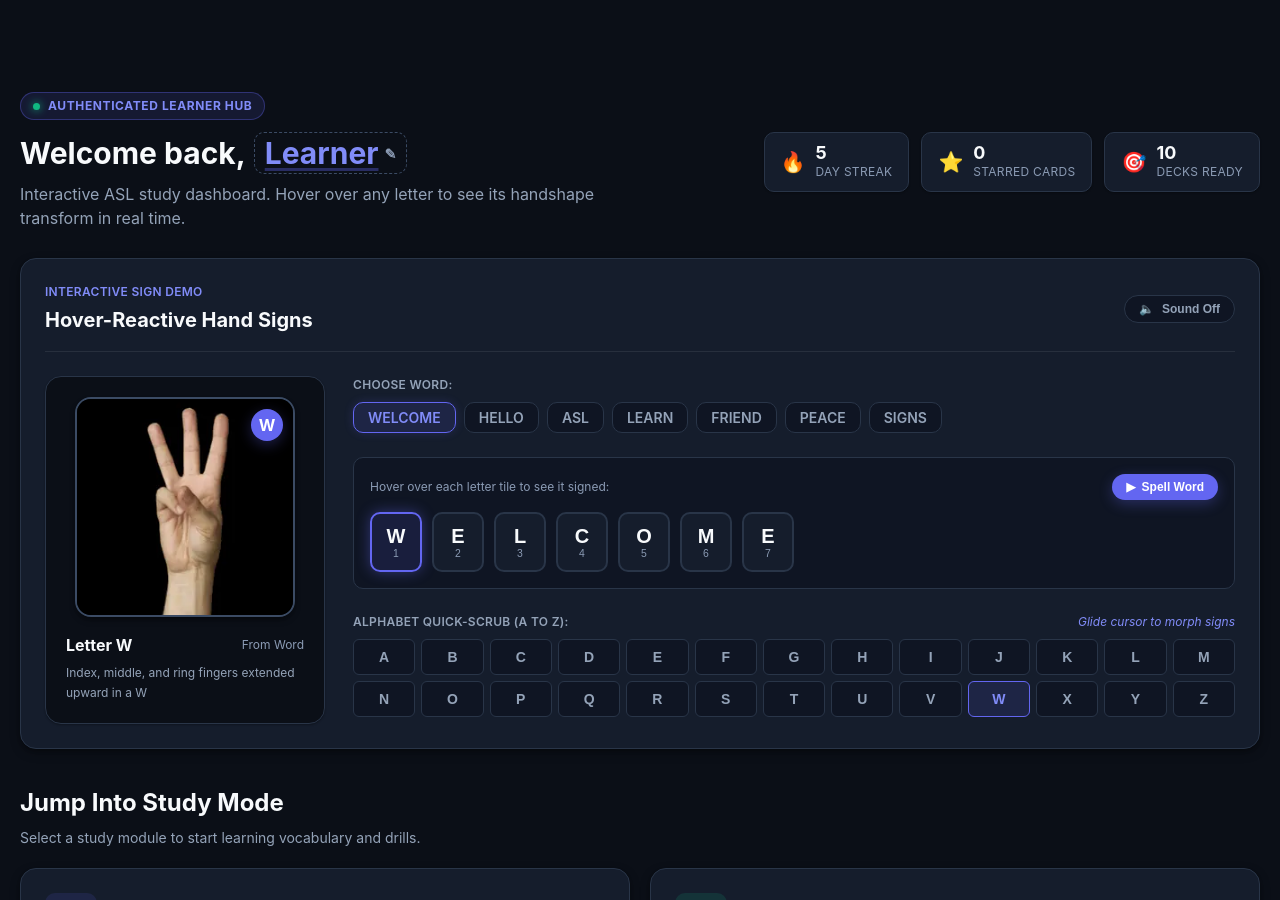
it: Welcome Component - Interactive Sign-on-Hover Hub › updates active sign when hovering over word letter tiles
This screenshot has width=1280, height=900.
Expected: the text "Letter W" is shown, [66,633,132,657]
Hover over the button with test id "letter-tile-E-1": [458, 542] box [432,512,484,572]
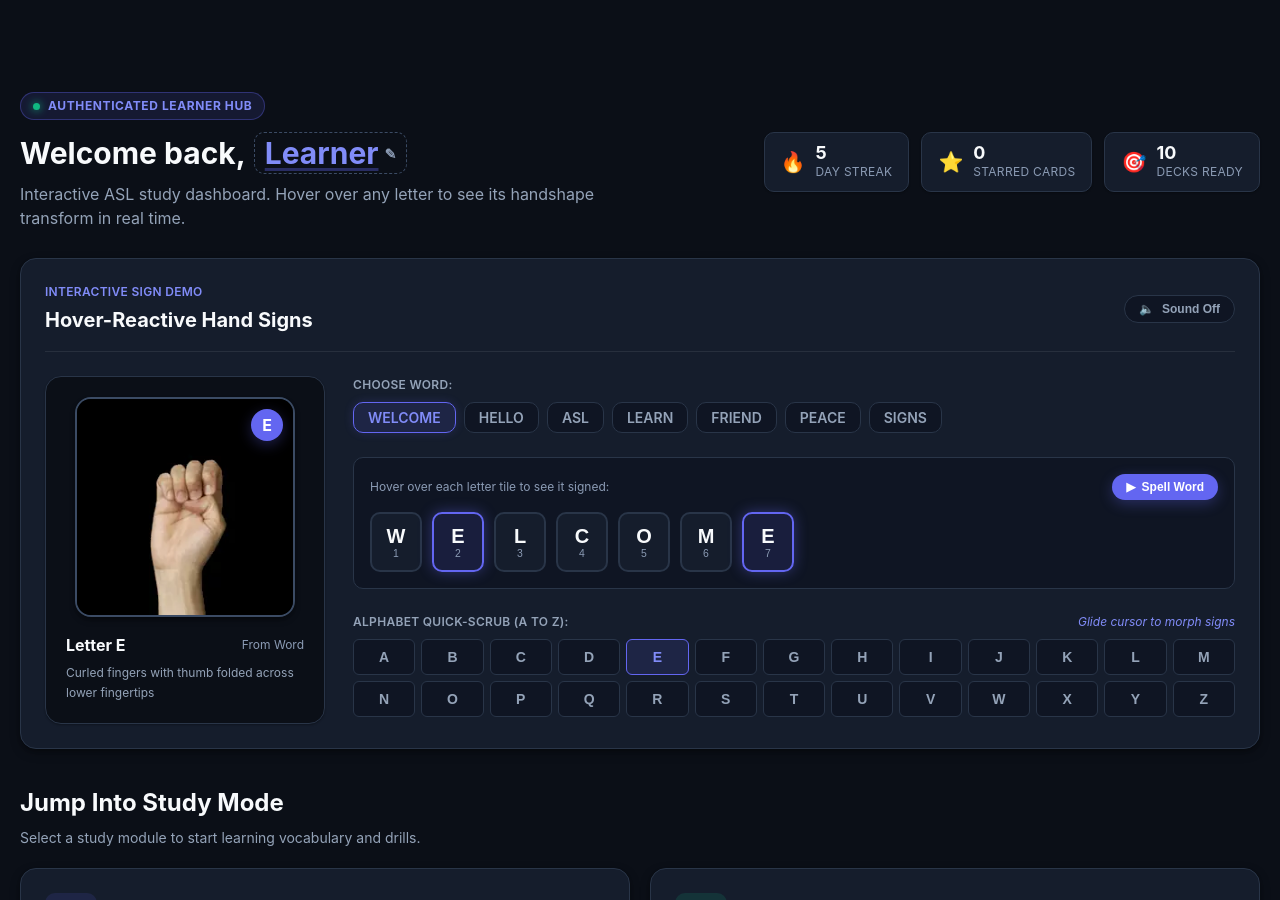
Now the text "Letter E" is shown, box [66,633,126,657]
